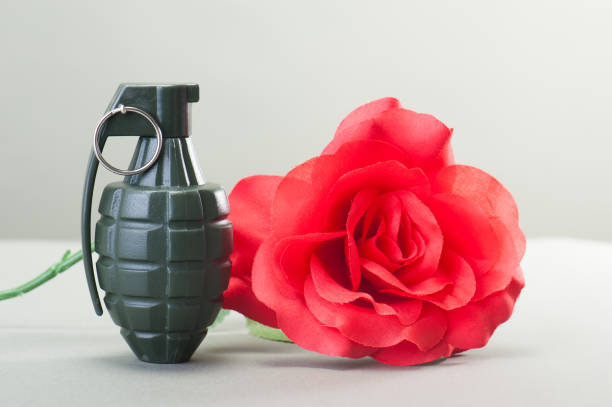e1: (78, 83, 235, 367)
